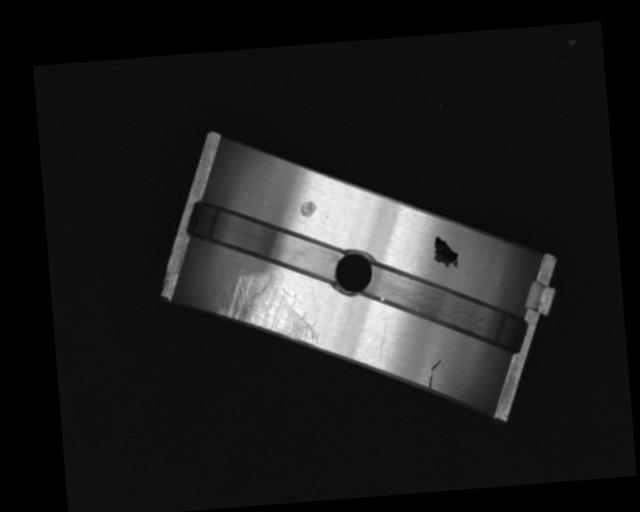blot: (431, 234, 460, 272)
bruise: (299, 200, 317, 219)
gap: (364, 250, 529, 360), (184, 189, 346, 292)
hole: (332, 248, 378, 299)
nick: (426, 359, 444, 391), (374, 323, 390, 359)
scratch: (212, 267, 321, 354)
